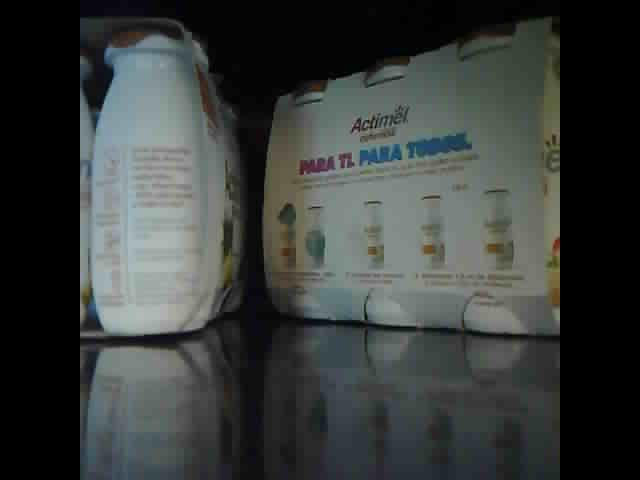actimel: (262, 16, 558, 339), (80, 11, 248, 338)
